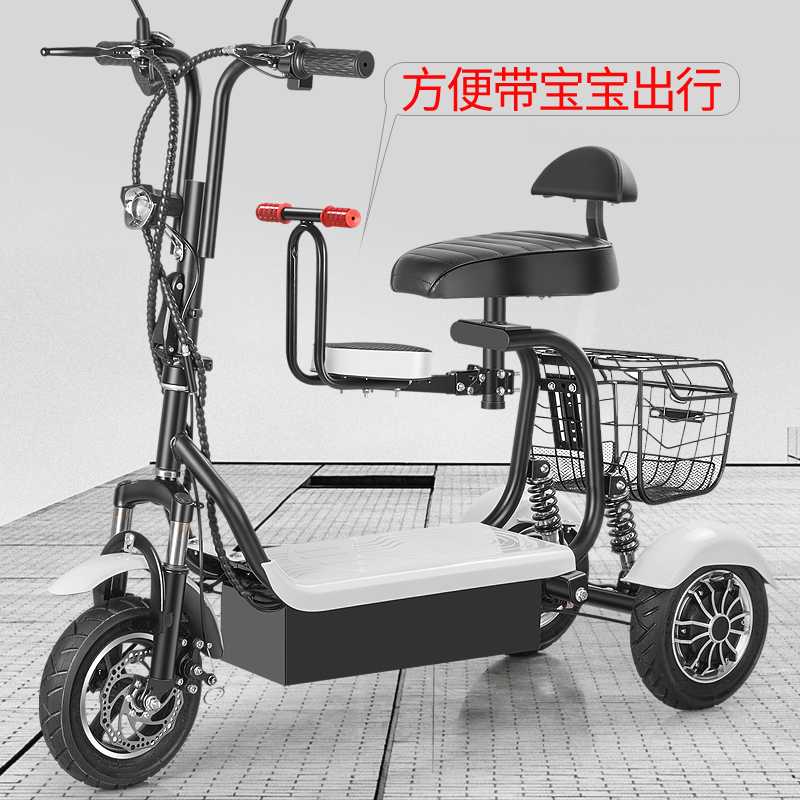电动车: (11, 1, 785, 792)
